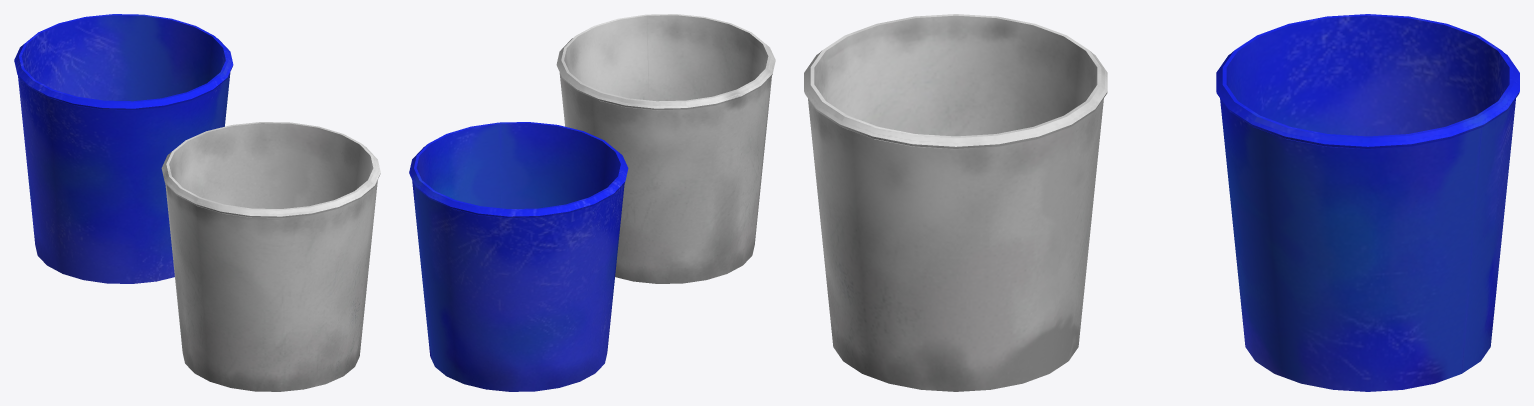
The model's file is bucket.FBX.
3 views of the same model, side by side, from view 1: azimuth 30°, elevation 25°; view 2: azimuth 150°, elevation 25°; view 3: azimuth 270°, elevation 25° (orthographic). The views are drawn at different scales.
Parts seen in each view (by area): view 1: Cylinder001, Cylinder002; view 2: Cylinder002, Cylinder001; view 3: Cylinder001, Cylinder002.
Part boxes in pixels (bbox=[...]): Cylinder001: bbox=[161, 122, 380, 391]; Cylinder002: bbox=[14, 14, 233, 283]; Cylinder002: bbox=[409, 122, 628, 391]; Cylinder001: bbox=[556, 14, 775, 283]; Cylinder001: bbox=[804, 14, 1107, 391]; Cylinder002: bbox=[1216, 14, 1519, 391].
Bounding box in the file's own units: 40.81 × 38.68 × 95.21.
